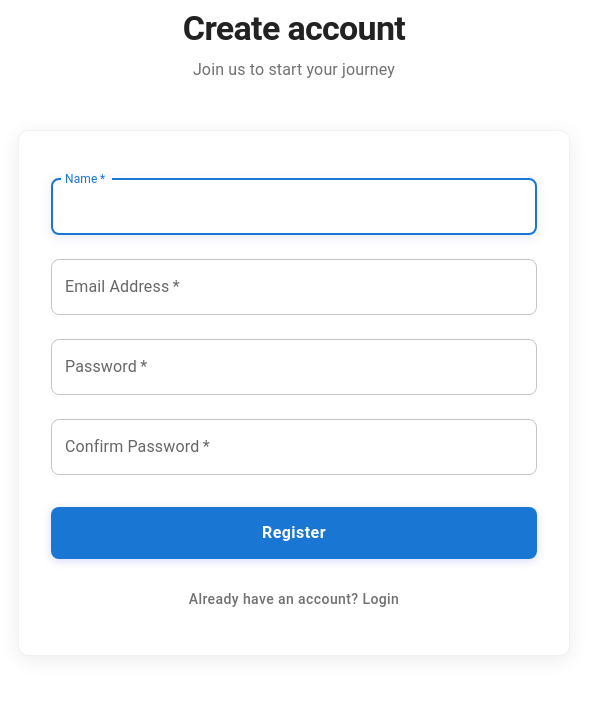
Test: Register Component › shows error message when registration fails
The image size is (589, 712).
Step 1. Type "John Doe" into the field labelled "Name *" → point(294, 207), box x1=51 y1=179 x2=537 y2=235
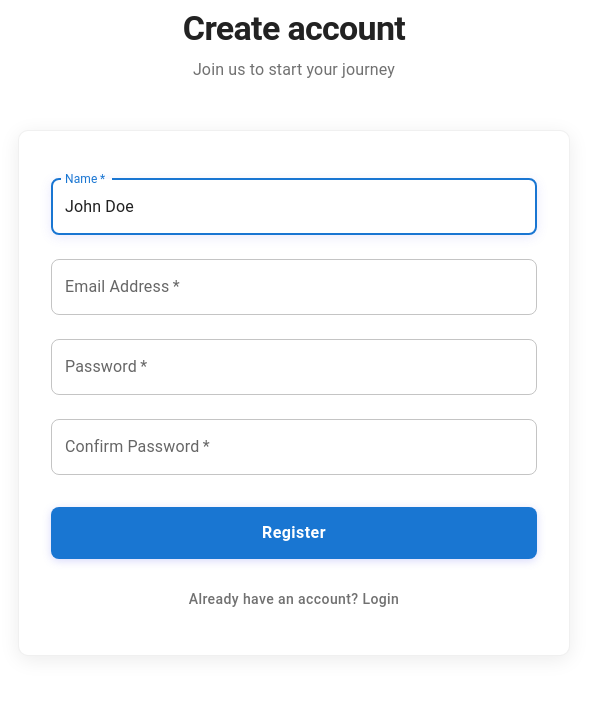
Step 2. Type "existing@example.com" into the field labelled "Email Address *" → point(294, 287), box x1=51 y1=259 x2=537 y2=315
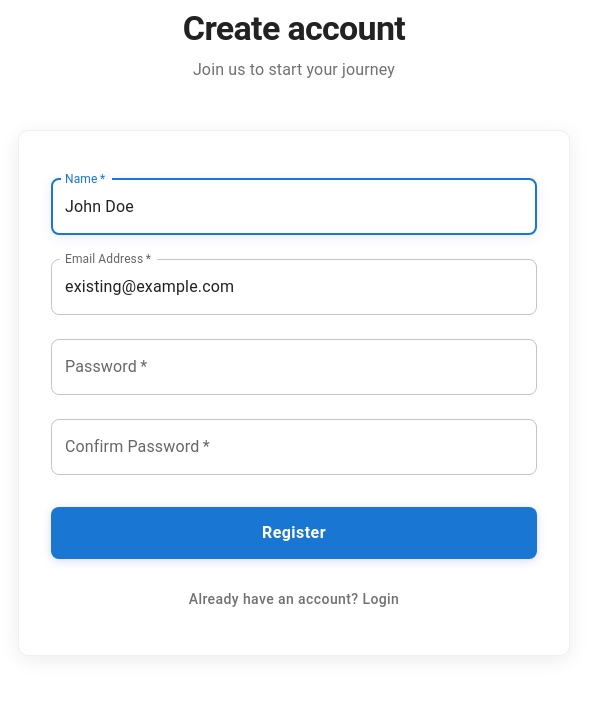
Step 3. Type "password123" into the password field labelled "Password *" → point(294, 367), box x1=51 y1=339 x2=537 y2=395
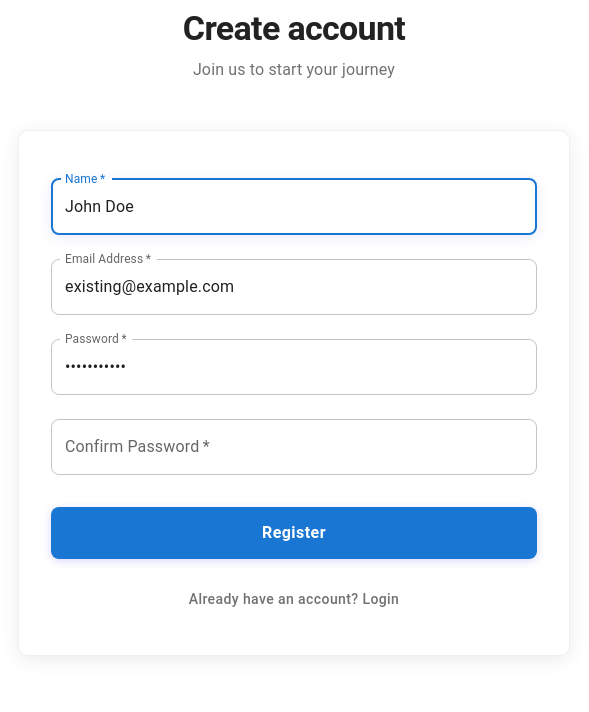
Step 4. Type "password123" into the password field labelled "Confirm Password *" → point(294, 447), box x1=51 y1=419 x2=537 y2=475
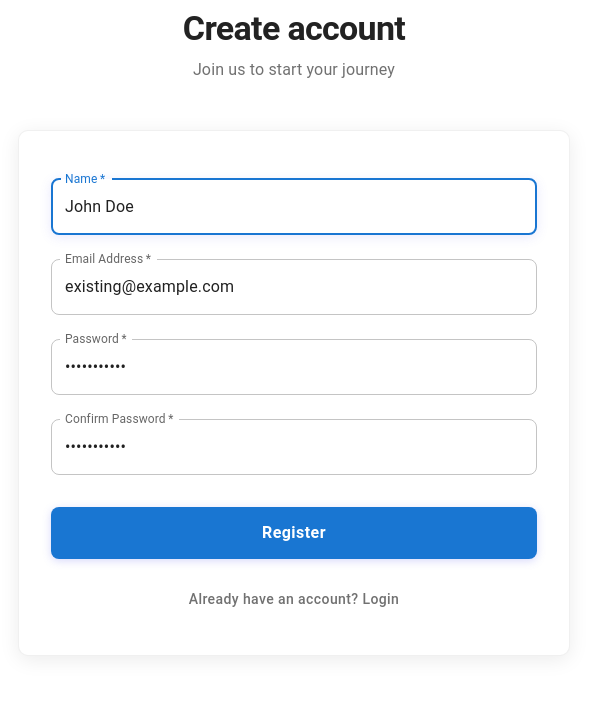
Step 5. Click the button "Register" → point(294, 533), box x1=51 y1=507 x2=537 y2=559
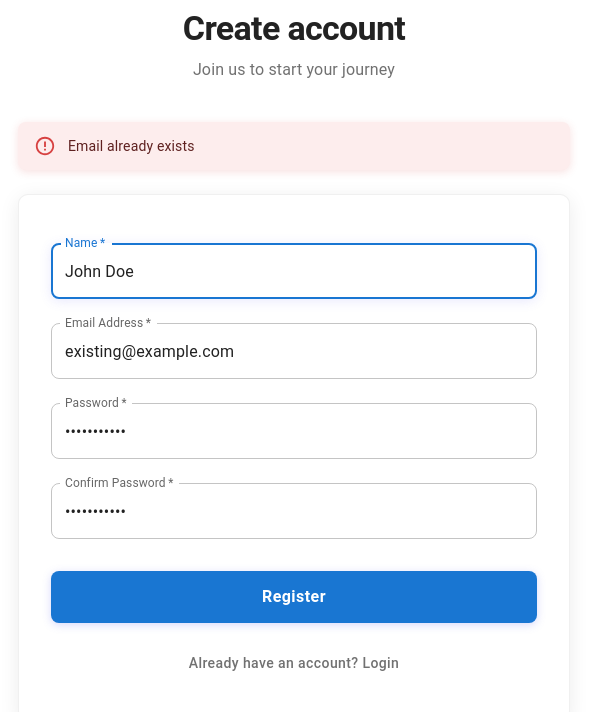
Check: the text "Email already exists" is shown, box x1=68 y1=138 x2=195 y2=154
